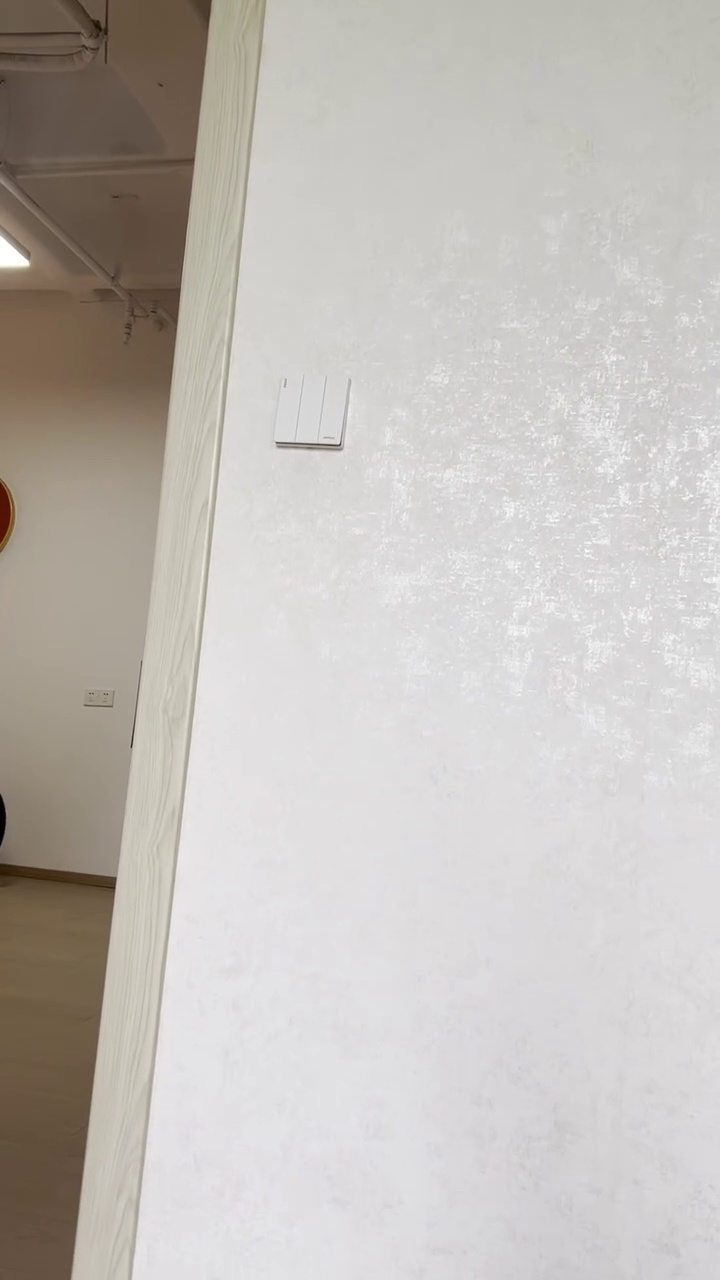button: (270, 369, 357, 449)
